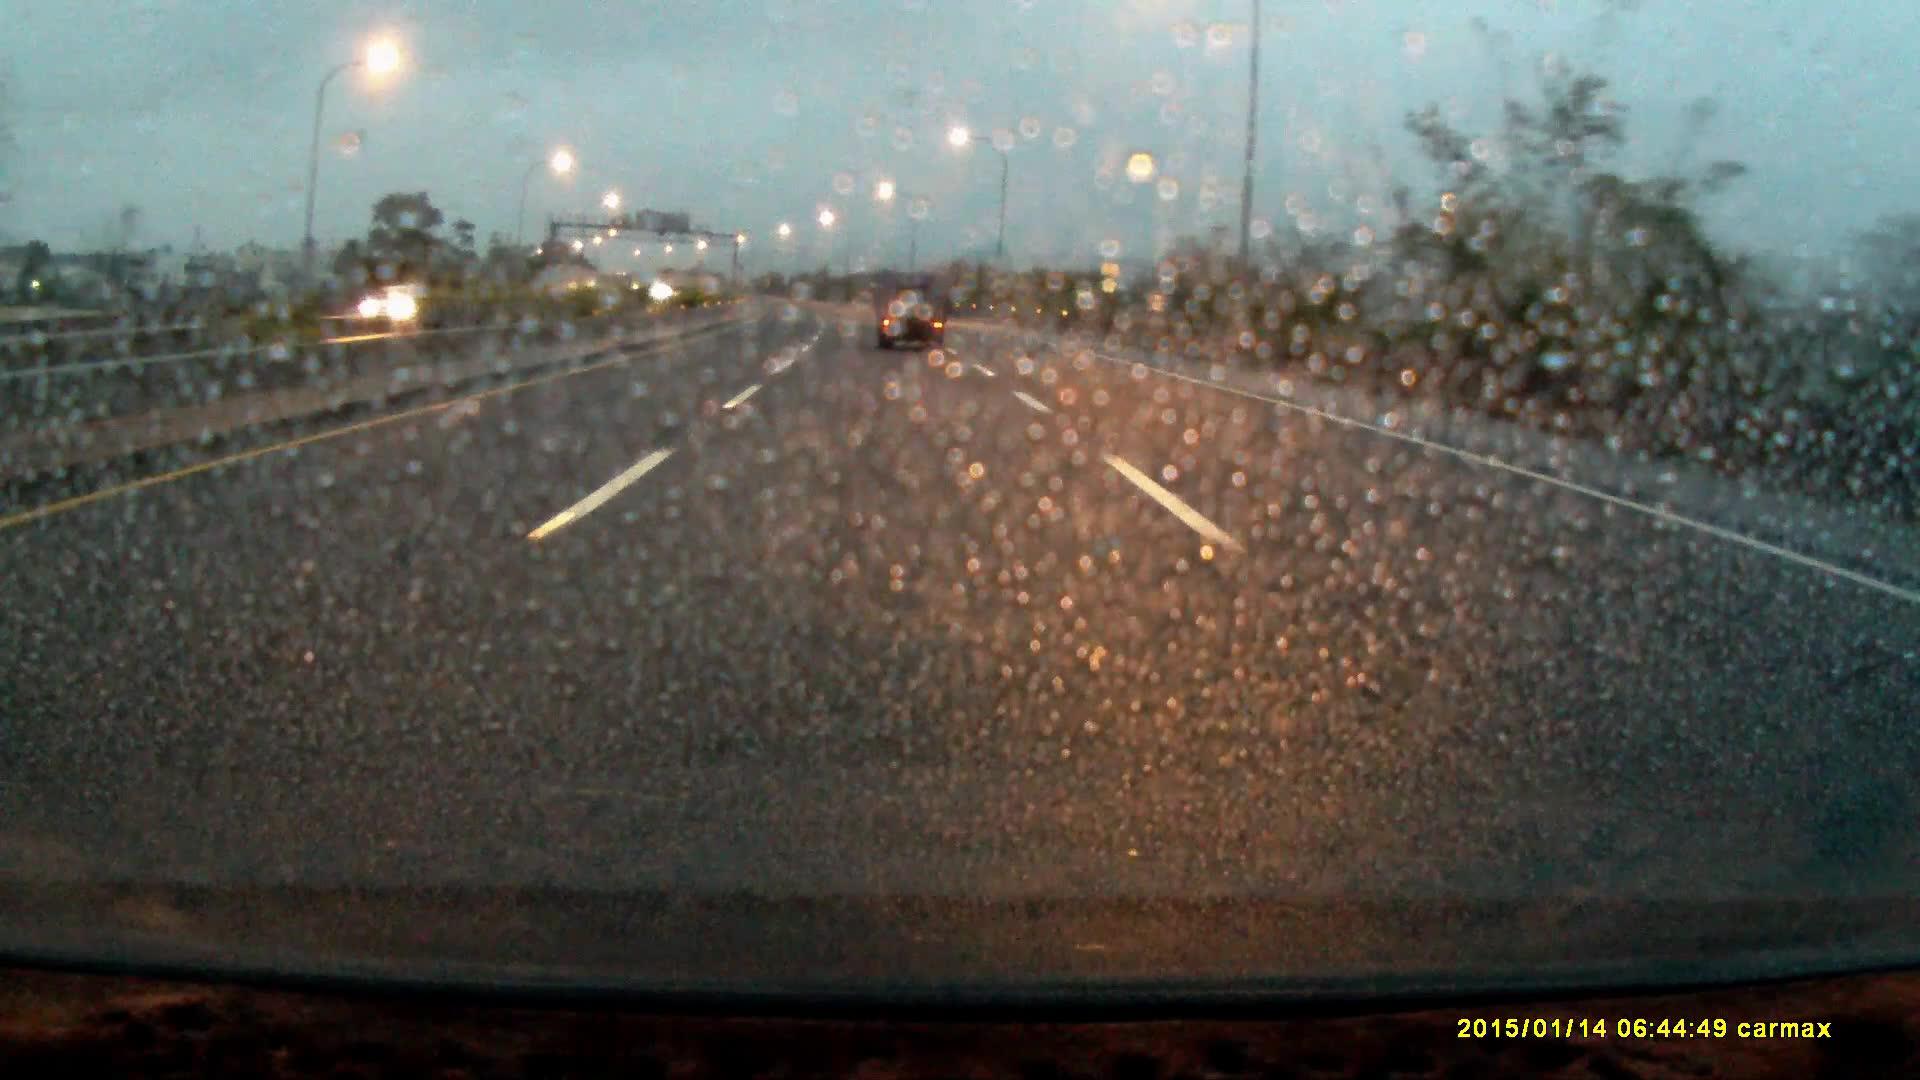vehicle: (876, 268, 945, 353), (357, 282, 430, 320)
